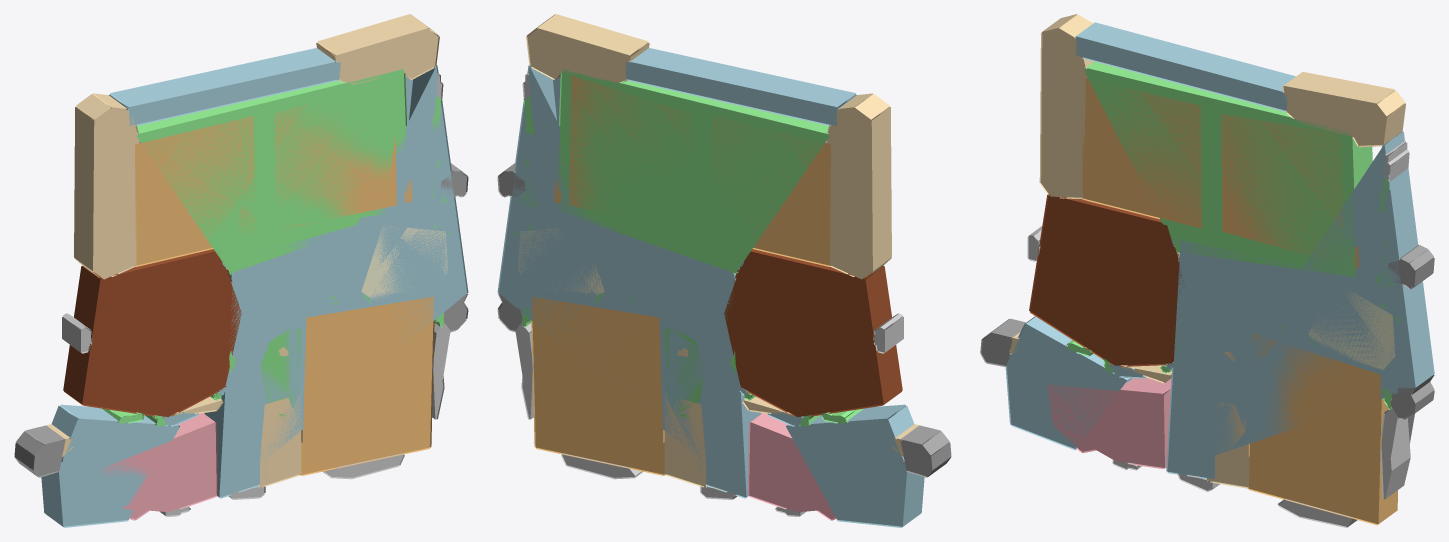
Rendered from diagnostic.obj.
3 renders of one model, left to right at view 1: azimuth 30°, elevation 25°; view 2: azimuth 150°, elevation 25°; view 3: azimuth 330°, elevation 25°, orthographic.
Bounding box in the file's own units: 32.91 × 31.28 × 2.5.
